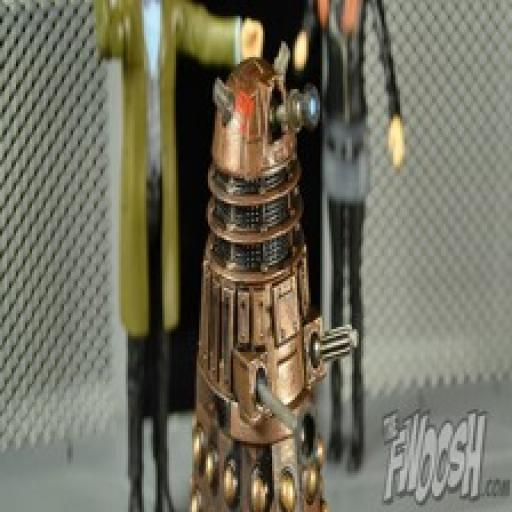dalek: (174, 39, 363, 512)
